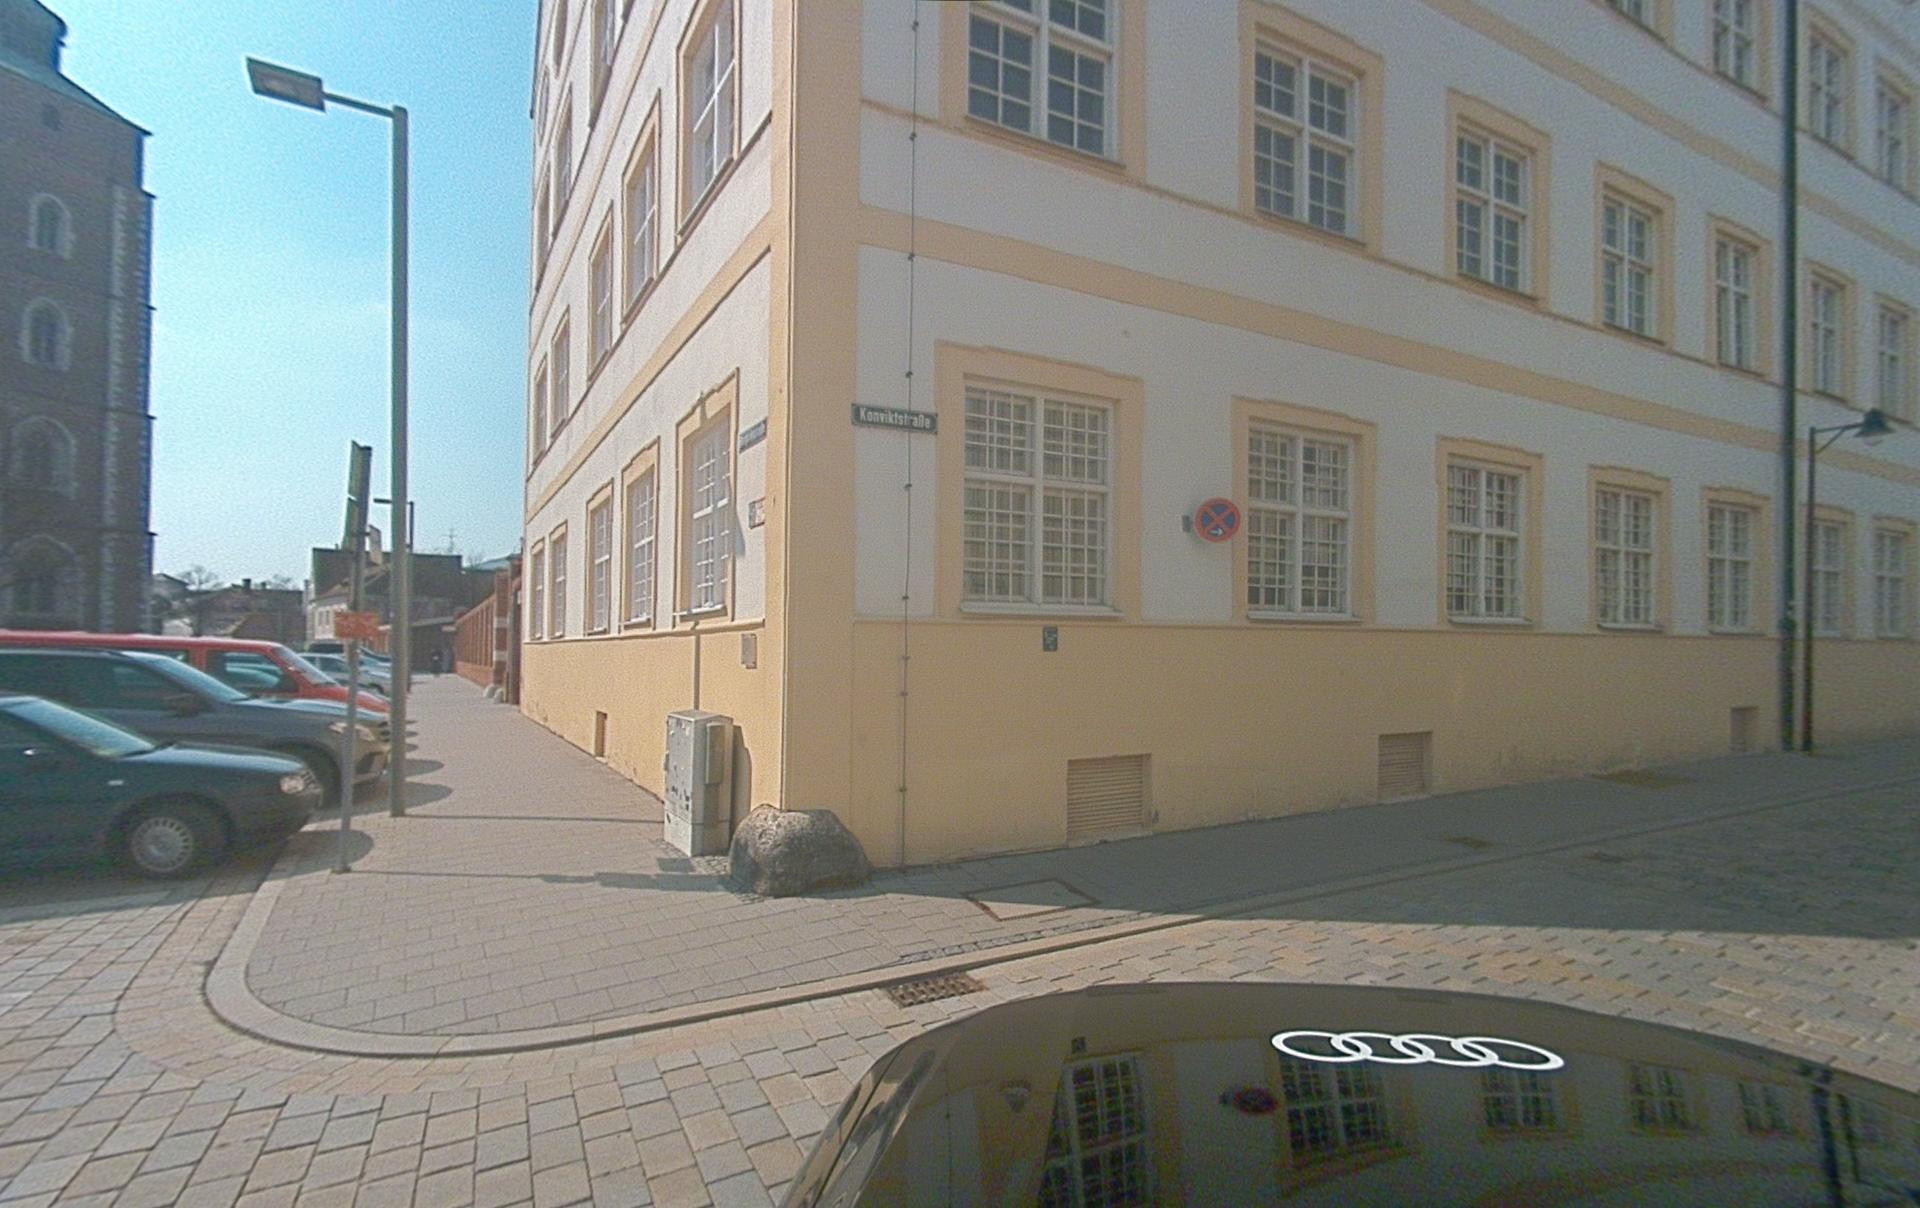car: (778, 981, 1919, 1207), (1, 640, 391, 809), (0, 692, 323, 878), (1, 630, 391, 720)
traffic sign: (245, 56, 326, 113), (334, 610, 380, 640)
